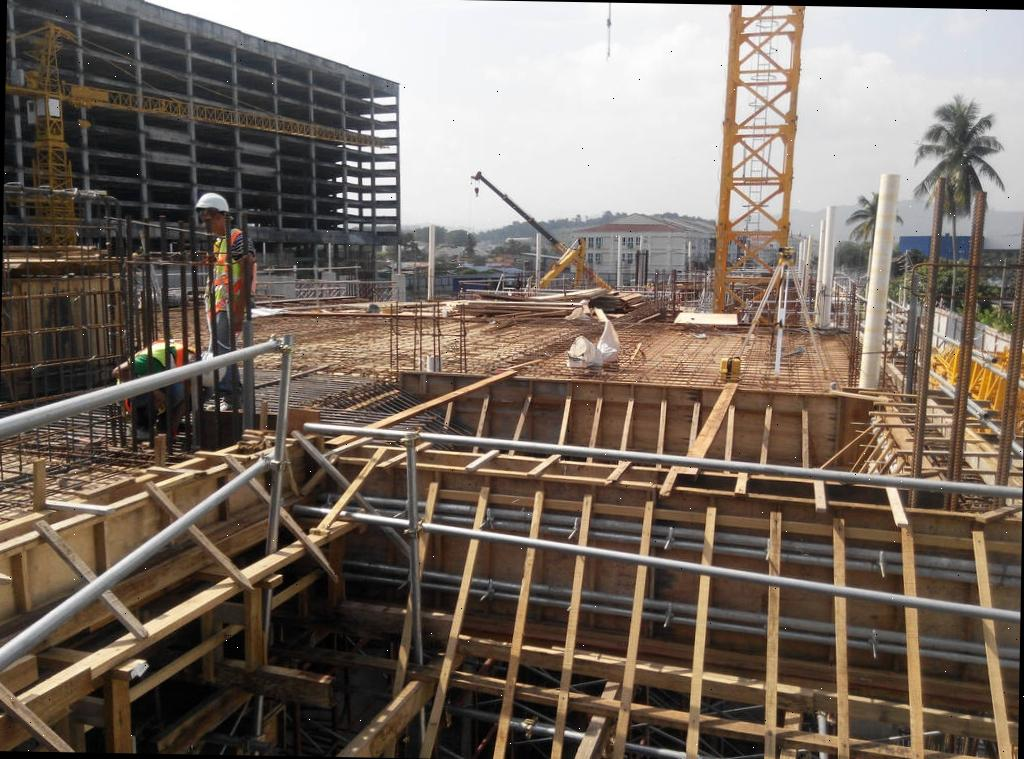helmet: (198, 346, 224, 388), (196, 190, 232, 212)
wear: (206, 229, 259, 322)
